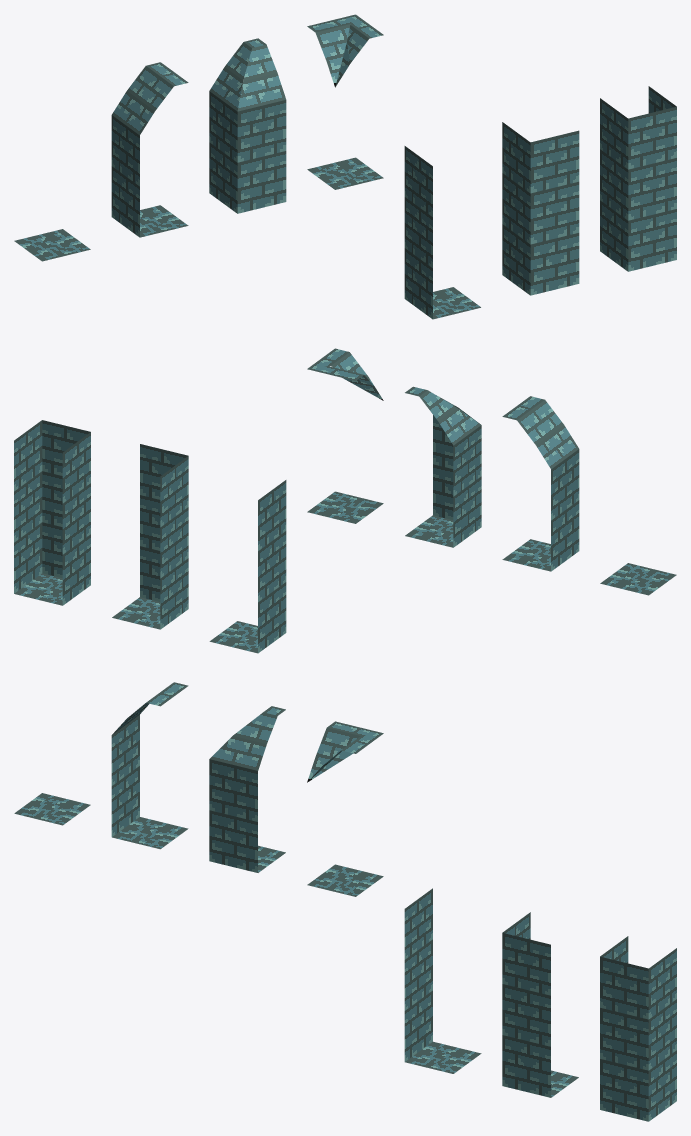
Rendered from wall-tiles.glb.
The picture shows the model from 3 angles, top to bottom: view 1: azimuth 30°, elevation 25°; view 2: azimuth 150°, elevation 25°; view 3: azimuth 330°, elevation 25°; orthographic projection.
Parts seen in each view (by area): view 1: Hole-UTurn-col, Hole-Corner-col, Wall-Corner-col, Wall-Side-col, Hole-Side-col, Wall-Outer-col, Ground-col; view 2: Hole-UTurn-col, Hole-Corner-col, Wall-Corner-col, Wall-Side-col, Hole-Side-col, Wall-Outer-col, Ground-col; view 3: Hole-UTurn-col, Hole-Corner-col, Wall-Corner-col, Hole-Side-col, Wall-Side-col, Wall-Outer-col, Ground-col.
Part boxes in pixels (<box>): Hole-UTurn-col: <box>600,86,676,271</box>; Hole-Corner-col: <box>502,122,579,295</box>; Wall-Corner-col: <box>209,38,286,213</box>; Wall-Side-col: <box>111,62,188,237</box>; Hole-Side-col: <box>404,146,480,319</box>; Wall-Outer-col: <box>307,14,383,189</box>; Ground-col: <box>14,229,90,261</box>; Hole-UTurn-col: <box>14,420,90,605</box>; Hole-Corner-col: <box>112,444,188,629</box>; Wall-Corner-col: <box>405,386,481,547</box>; Wall-Side-col: <box>502,396,579,571</box>; Hole-Side-col: <box>209,480,286,653</box>; Wall-Outer-col: <box>307,348,383,523</box>; Ground-col: <box>600,563,676,595</box>; Hole-UTurn-col: <box>600,936,676,1121</box>; Hole-Corner-col: <box>502,912,578,1097</box>; Wall-Corner-col: <box>209,706,285,872</box>; Hole-Side-col: <box>404,888,481,1073</box>; Wall-Side-col: <box>111,682,188,849</box>; Wall-Outer-col: <box>307,721,383,896</box>; Ground-col: <box>14,793,90,825</box>.
Bounding box in the file's own units: 13 × 5.8 × 1.
Materials: 1 (1 with a texture image).
